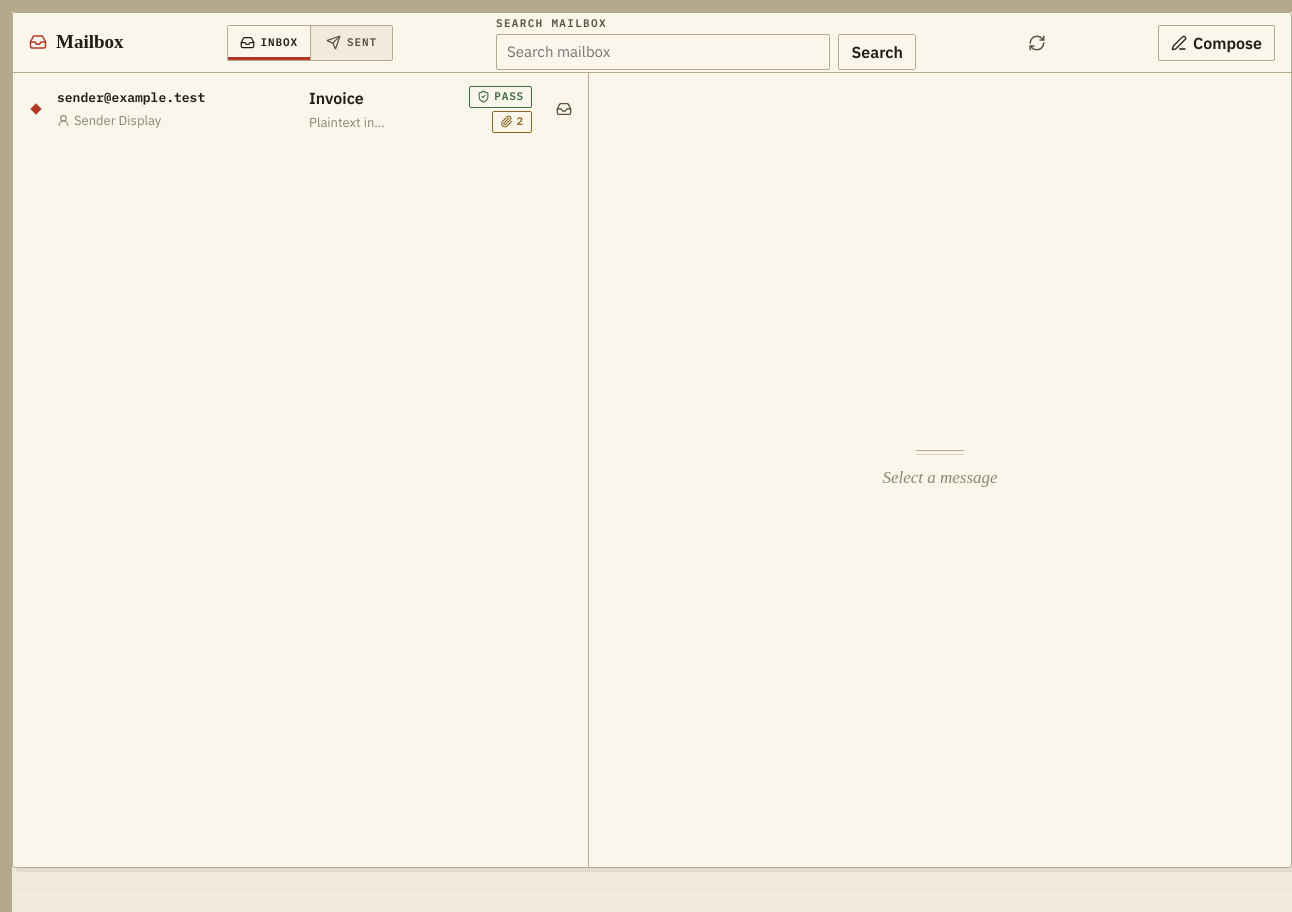
Test: MailboxView › shows API error state for failed message actions
Click the button named "Mark read" at (564, 109), box [546,91,582,127]
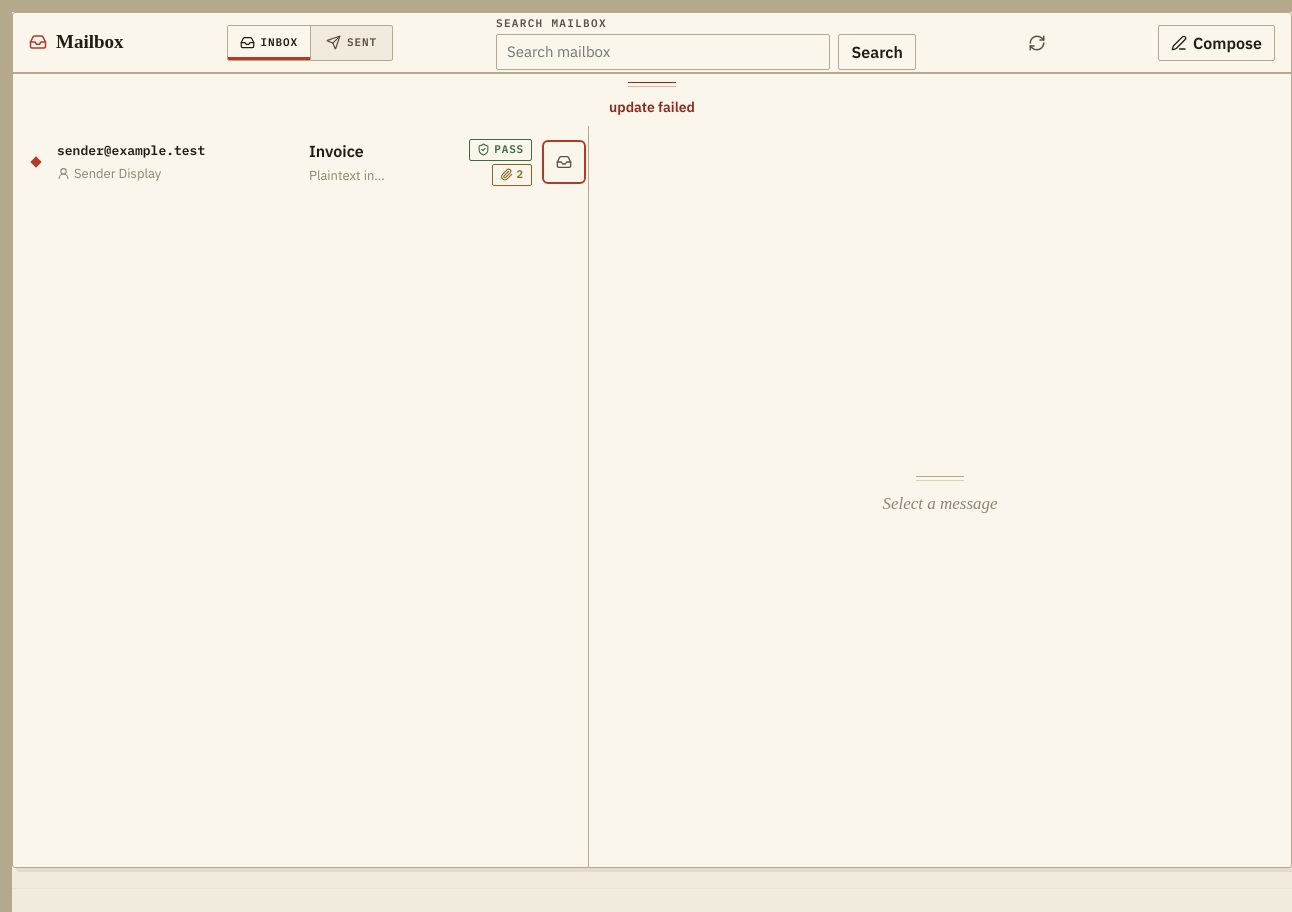
Now the message reads "update failed", box [609,98,695,116]
